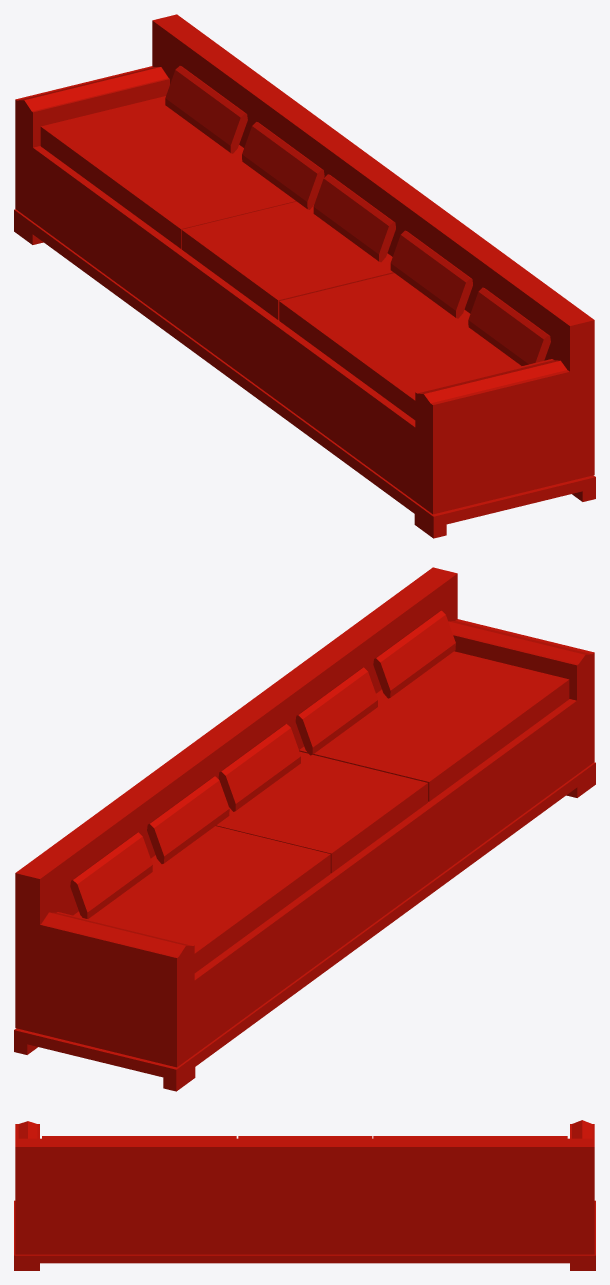
Rendered from couch.gltf.
3 renders of one model, top to bottom at view 1: azimuth 30°, elevation 25°; view 2: azimuth 150°, elevation 25°; view 3: azimuth 270°, elevation 25°, orthographic. The views are drawn at different scales.
Visible parts, largest first — view 1: Cube_011_Cube.021; view 2: Cube_011_Cube.021; view 3: Cube_011_Cube.021.
Boxes of the visible parts, x1,y1,x2,y2 form: Cube_011_Cube.021: (14, 14, 595, 538); Cube_011_Cube.021: (14, 567, 595, 1091); Cube_011_Cube.021: (14, 1120, 595, 1270).
Bounding box in the file's own units: 0.7622 × 0.7992 × 3.41.
